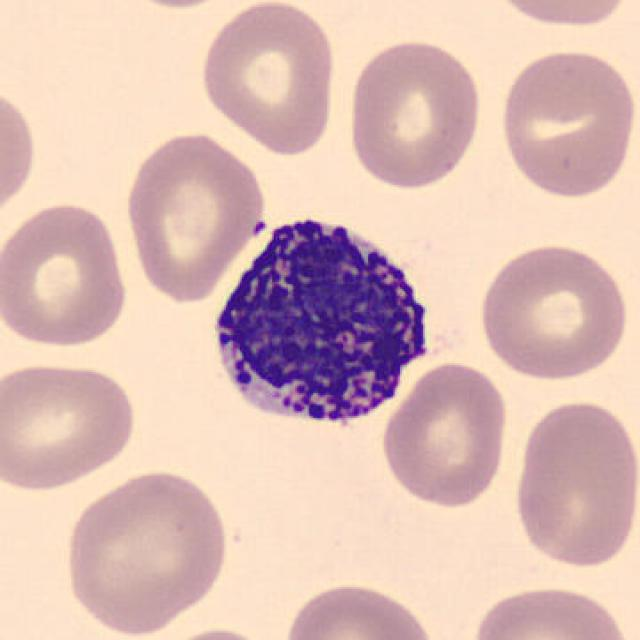Basophil: (197, 198, 448, 442)
RBC: (59, 466, 233, 636), (119, 125, 269, 305), (508, 395, 638, 573), (196, 0, 342, 157), (473, 238, 631, 383), (494, 44, 638, 203), (343, 35, 485, 192), (0, 197, 133, 352), (377, 360, 512, 511), (0, 356, 142, 494), (279, 576, 439, 640), (466, 580, 634, 640), (0, 78, 39, 229), (482, 0, 638, 32), (146, 624, 284, 640), (99, 0, 252, 12)
